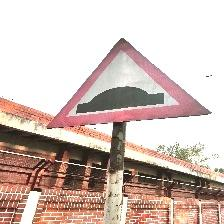Speed-breaker: (46, 39, 211, 127)
